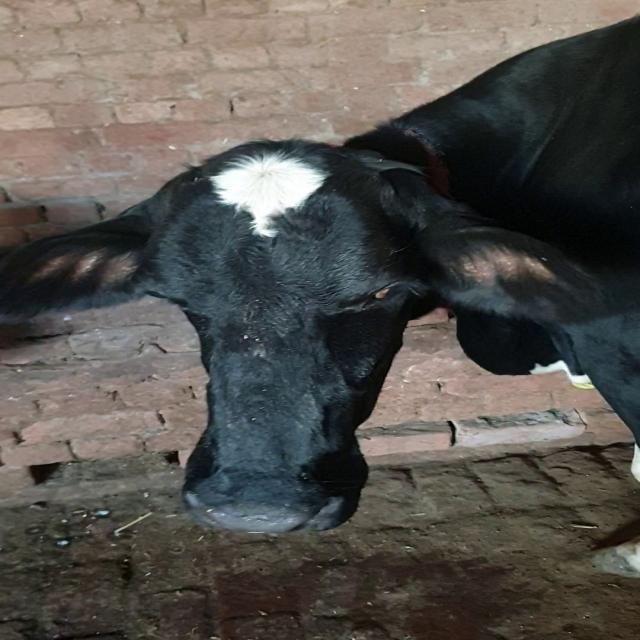cowFace: (120, 135, 453, 563)
